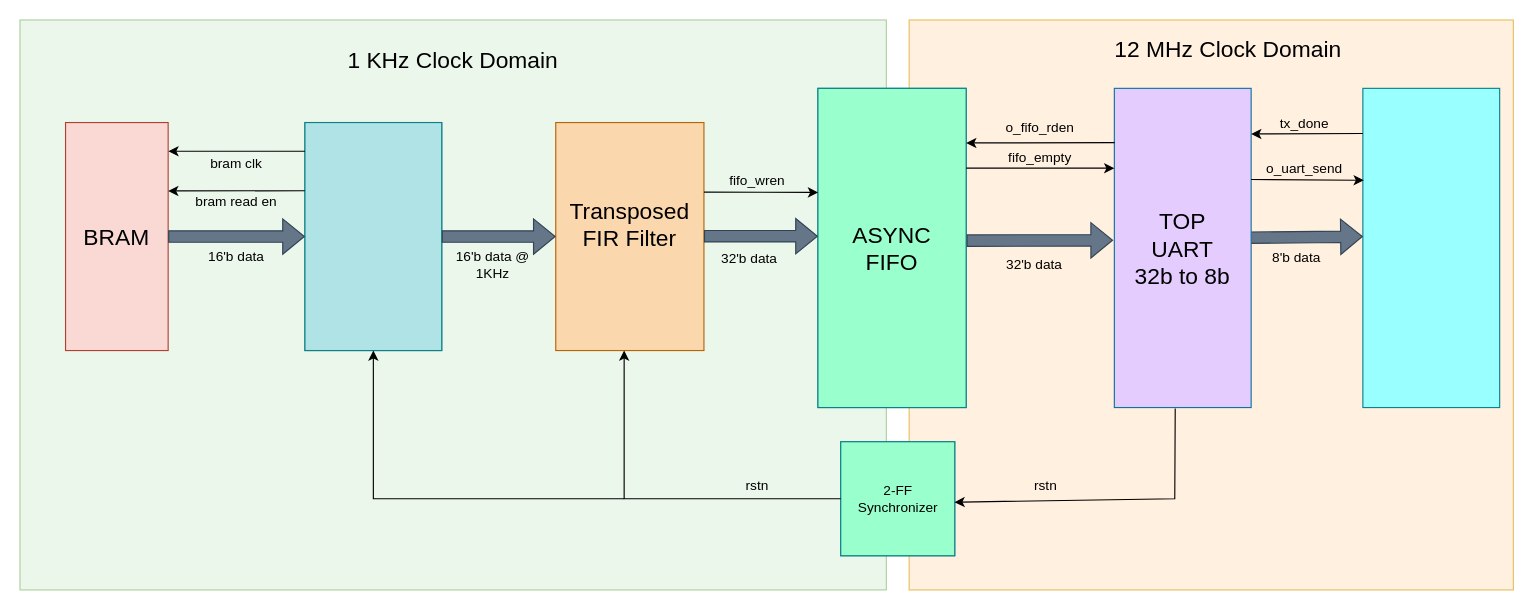
Some shapes in this 1533 by 610 pixel diagram are drawn without their labels. Each missing label, with the box of its shape:
Filter Input: (304, 121, 442, 351)
UART TX @19200: (1362, 87, 1500, 408)
